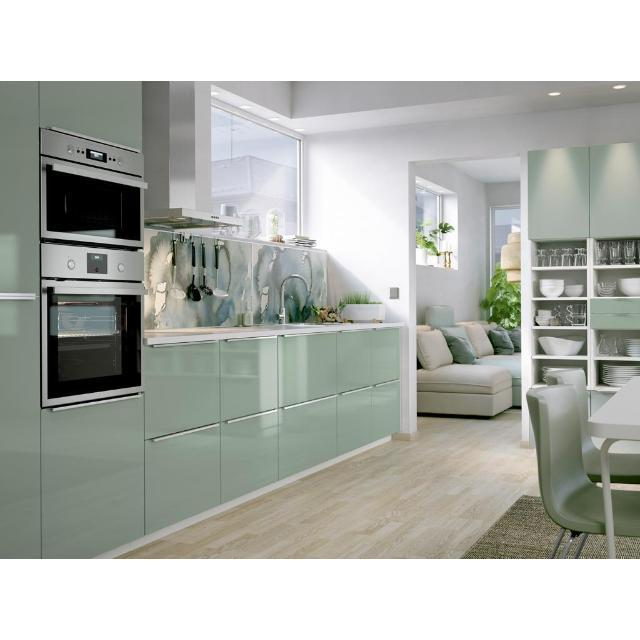chair: (526, 385, 605, 558), (612, 491, 640, 537)
couch: (416, 322, 521, 416)
pillow: (416, 330, 452, 370), (444, 334, 476, 365), (465, 325, 494, 357), (488, 326, 514, 355)
plant: (416, 222, 454, 265)
rug: (462, 495, 561, 558), (579, 535, 606, 558), (615, 536, 640, 558)
shelf: (521, 142, 640, 444)
table: (588, 376, 640, 558)
